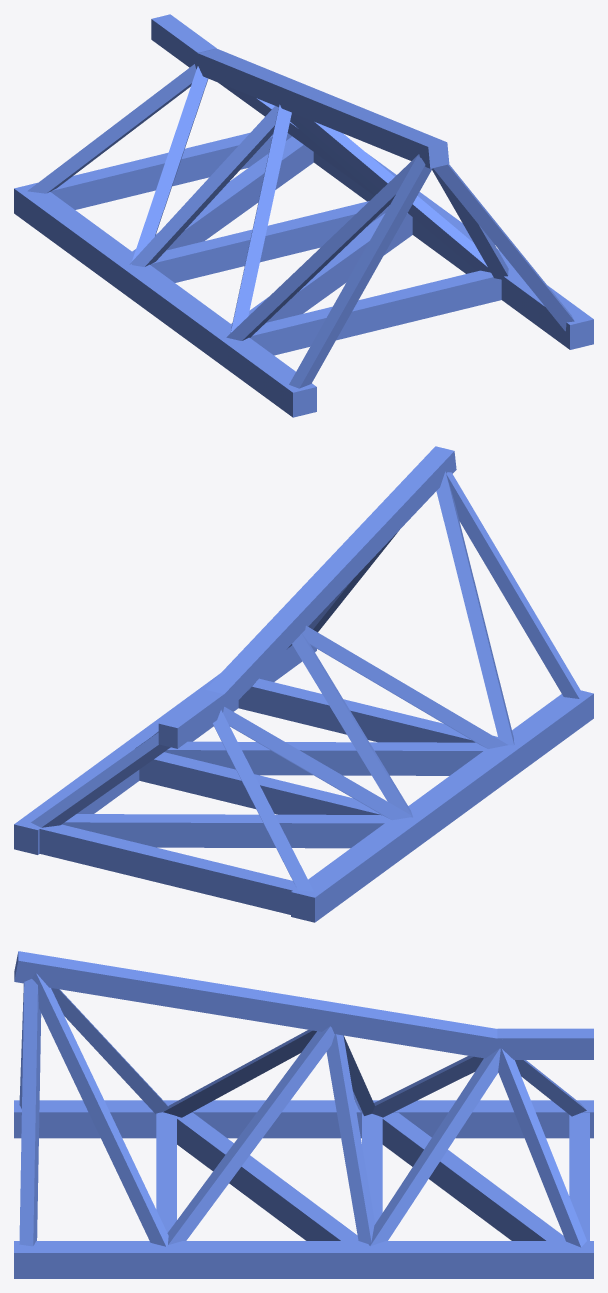
Rendered from flatArmConnection.glb.
3 renders of one model, top to bottom at view 1: azimuth 30°, elevation 25°; view 2: azimuth 150°, elevation 25°; view 3: azimuth 270°, elevation 25°, orthographic. The views are drawn at different scales.
Visible parts, largest first — view 1: connection; view 2: connection; view 3: connection.
Part boxes in pixels (x1,y1,x2,y2): connection: (14,14,593,417); connection: (14,446,593,922); connection: (14,951,593,1278).
Size of the model in its own units: 63.09 by 47.28 by 101.
